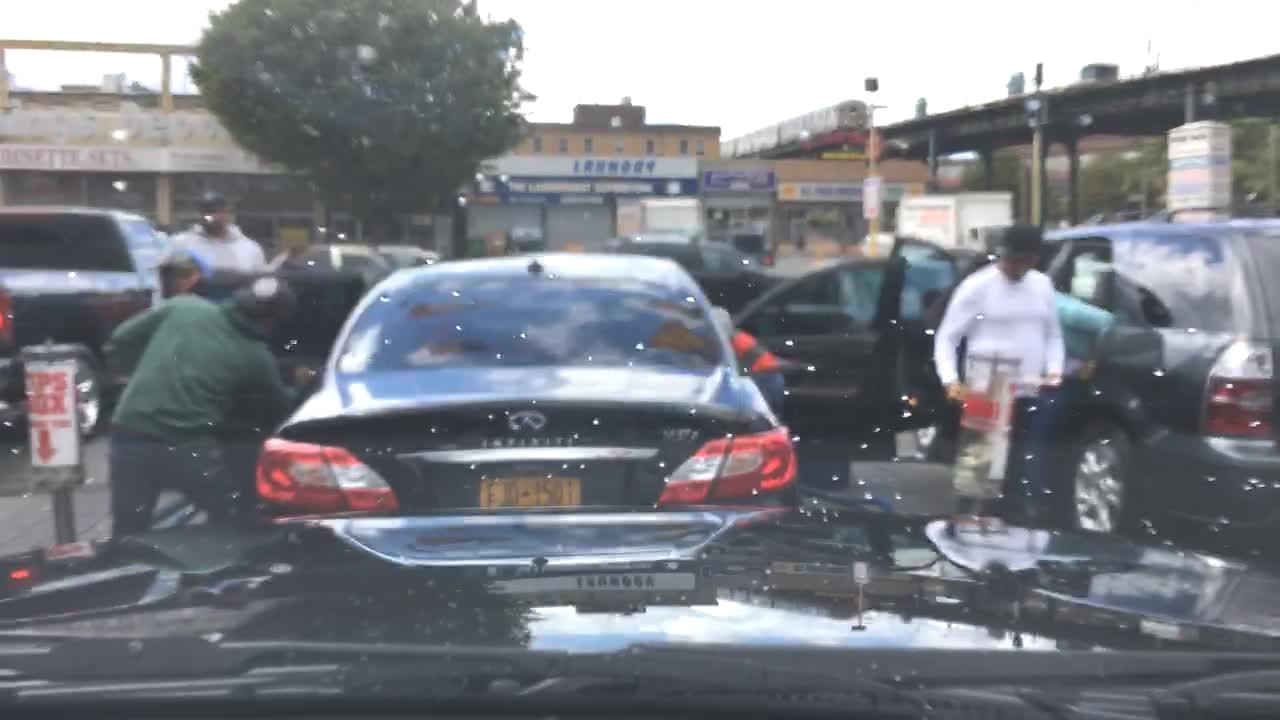Infiniti: (499, 403, 556, 434)
